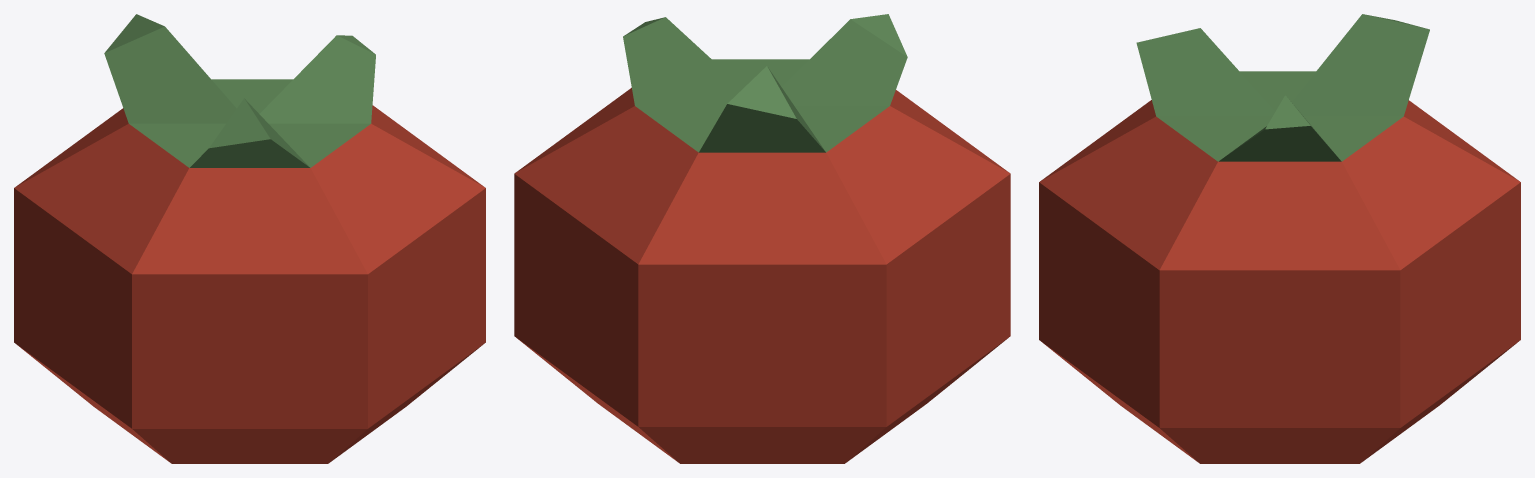
Rendered from SM_Item_Tomato_01.fbx.
The picture shows the model from 3 angles, left to right: view 1: azimuth 30°, elevation 25°; view 2: azimuth 150°, elevation 25°; view 3: azimuth 270°, elevation 25°; orthographic projection. The views are drawn at different scales.
Parts seen in each view (by area): view 1: SM_Item_Tomato_01; view 2: SM_Item_Tomato_01; view 3: SM_Item_Tomato_01.
Boxes of the visible parts, x1,y1,x2,y2 form: SM_Item_Tomato_01: (14,14,485,463); SM_Item_Tomato_01: (514,14,1010,463); SM_Item_Tomato_01: (1039,14,1520,463).
Bounding box in the file's own units: 12.01 × 11.73 × 13.87.
